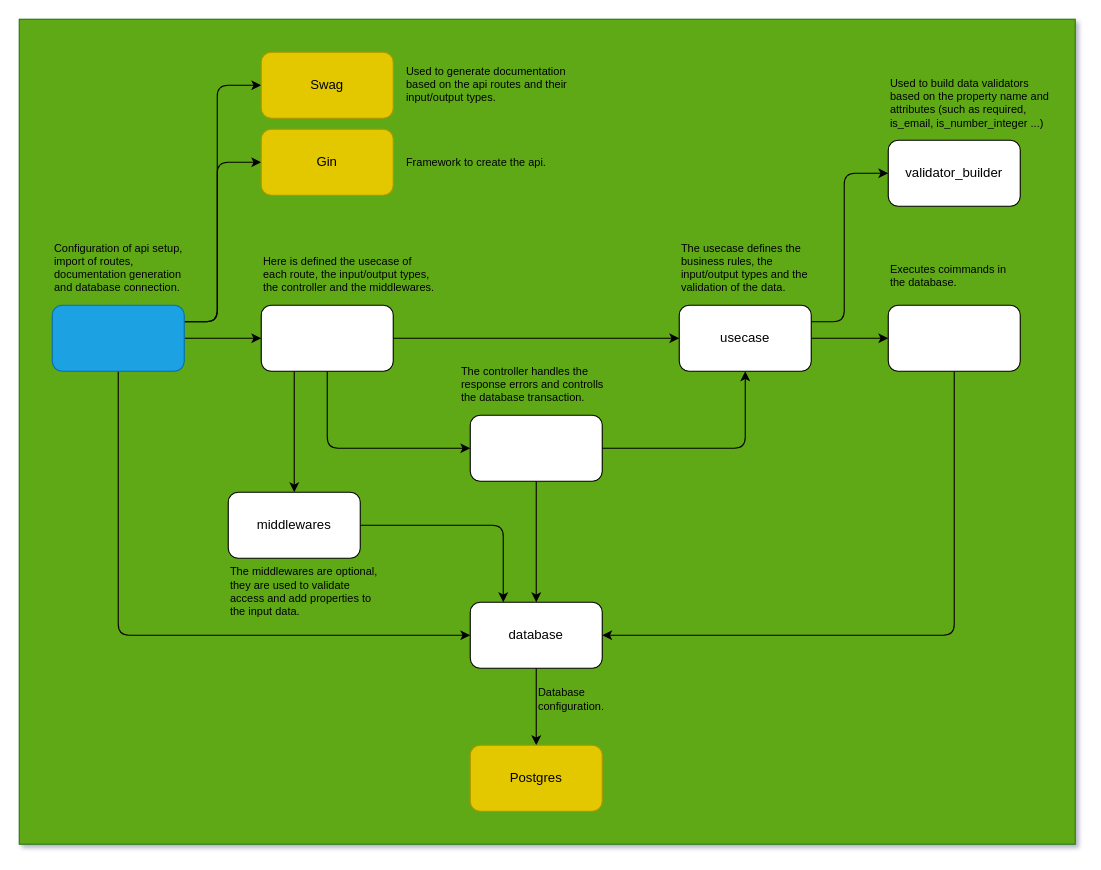
Some shapes in this 1101 by 870 pixel diagram are drawn without their labels. Here are the shapes that lost their labels. From the top down, the centre of each, then its label:
the point at 117,337: main
the point at 326,337: route
the point at 953,337: repository
the point at 535,447: controller
